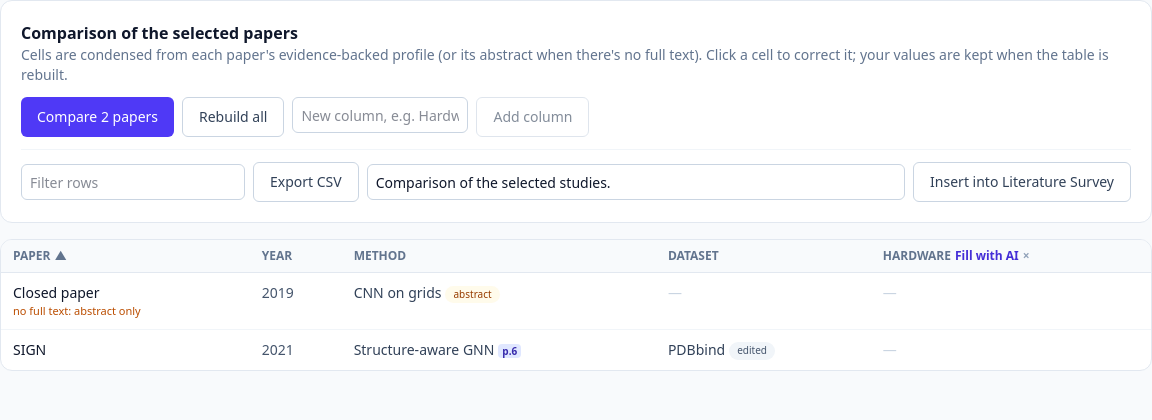
Test case: ComparePanel › builds, fills custom columns, adds columns and inserts the table
The width and height of the screenshot is (1152, 420).
Click the button "Compare 2 papers".
click(98, 117)  # box [21,97,174,137]
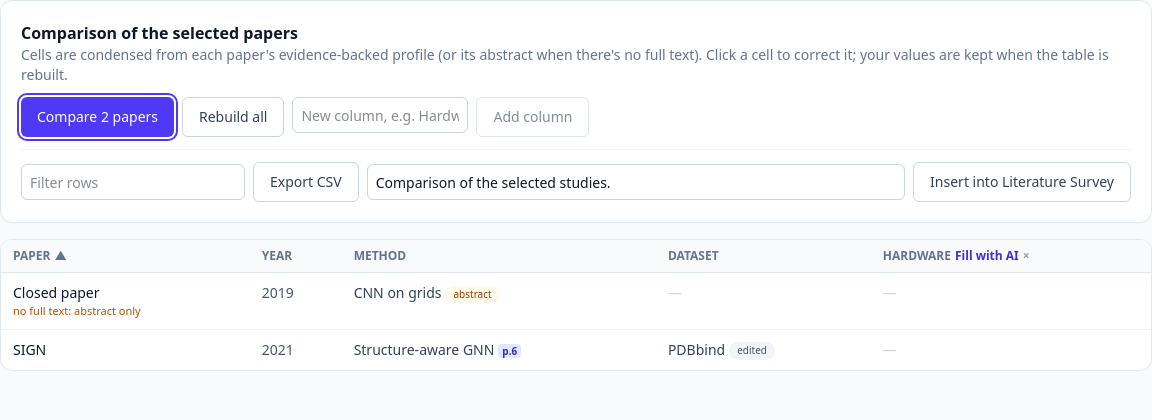
Click the button "Fill with AI".
click(987, 256)  # box [955,248,1019,264]
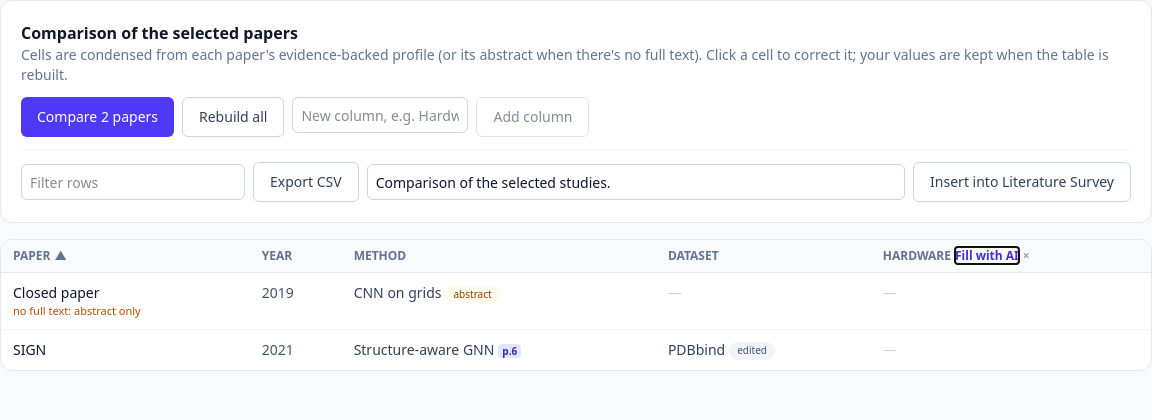
Type "Code available" into the field named "New column name".
click(380, 115); type("Code available")  # box [292,97,468,133]
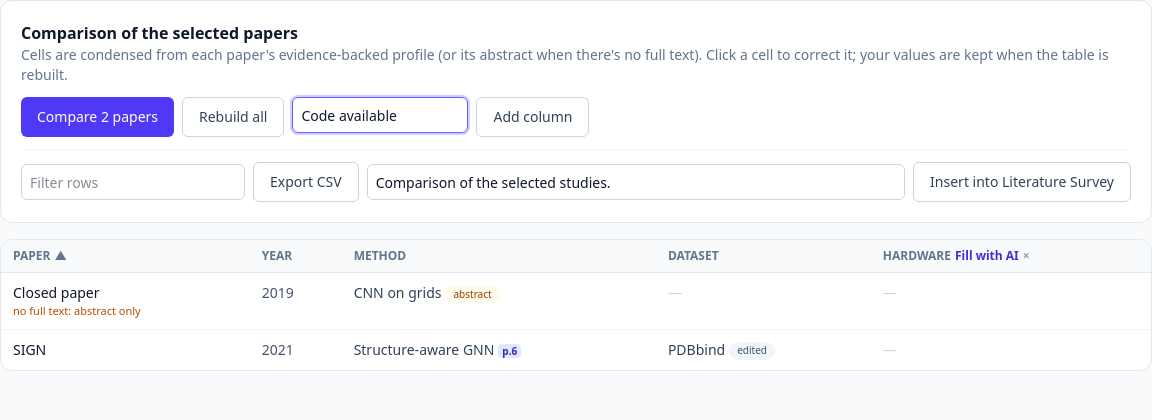
Click the button "Add column".
click(533, 117)  # box [476,97,589,137]
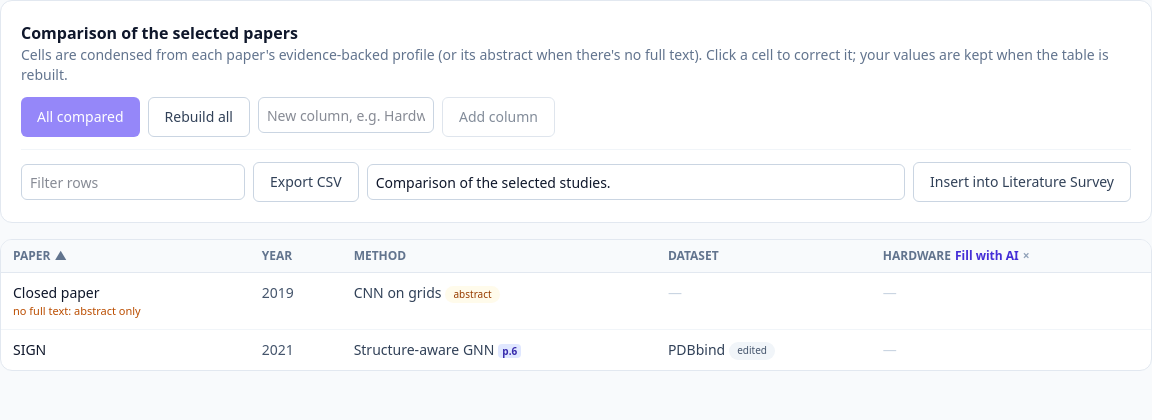
Click the button "Insert into Literature Survey".
click(1022, 182)  # box [913,162,1131,202]
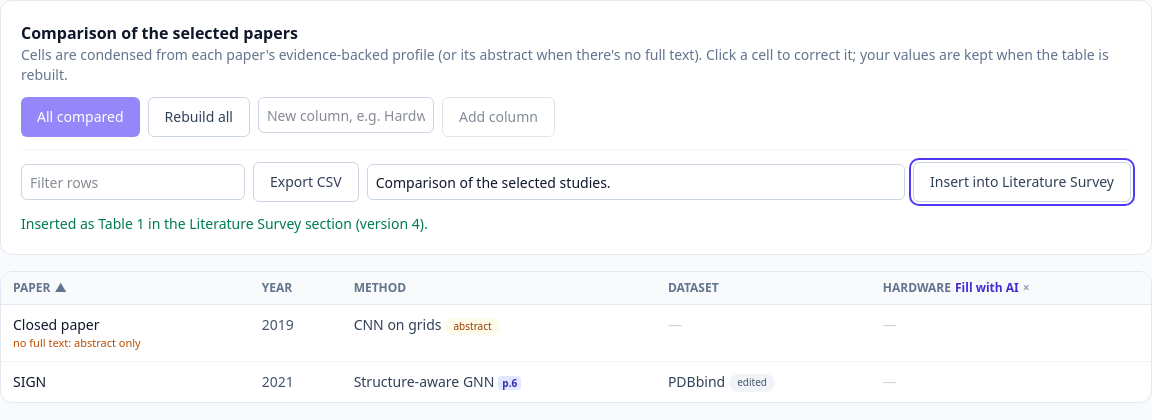
Result: the message shows "Inserted as Table 1 in the Literature Survey section" at [21,214,428,233]
